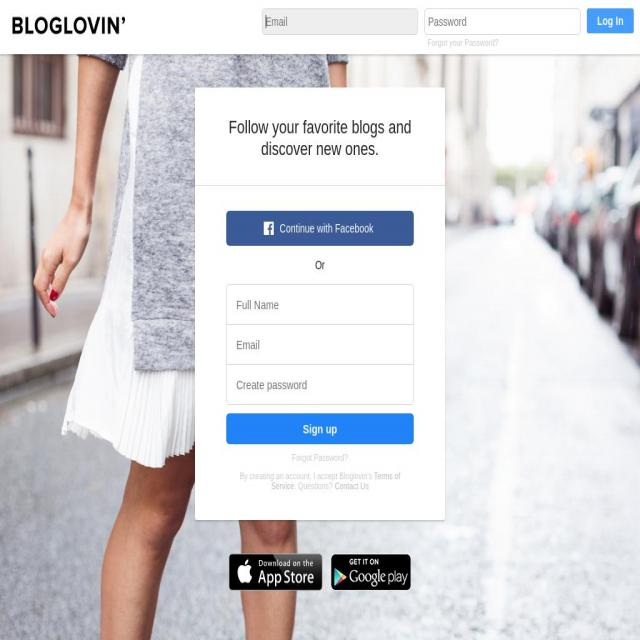login-form: (250, 3, 640, 55)
sign-up-form: (192, 173, 442, 512)
